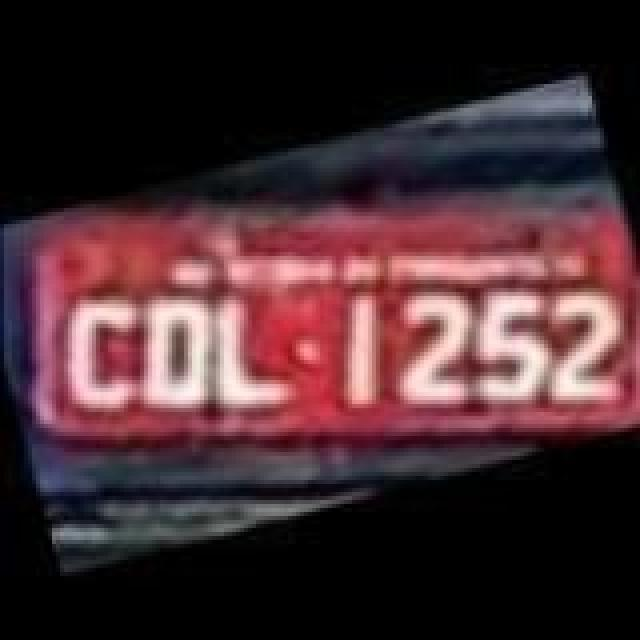1: (306, 278, 410, 414)
2: (524, 276, 640, 420), (376, 272, 492, 416)
5: (452, 270, 576, 414)
C: (36, 274, 160, 422)
D: (108, 276, 232, 424)
L: (180, 280, 304, 432)
